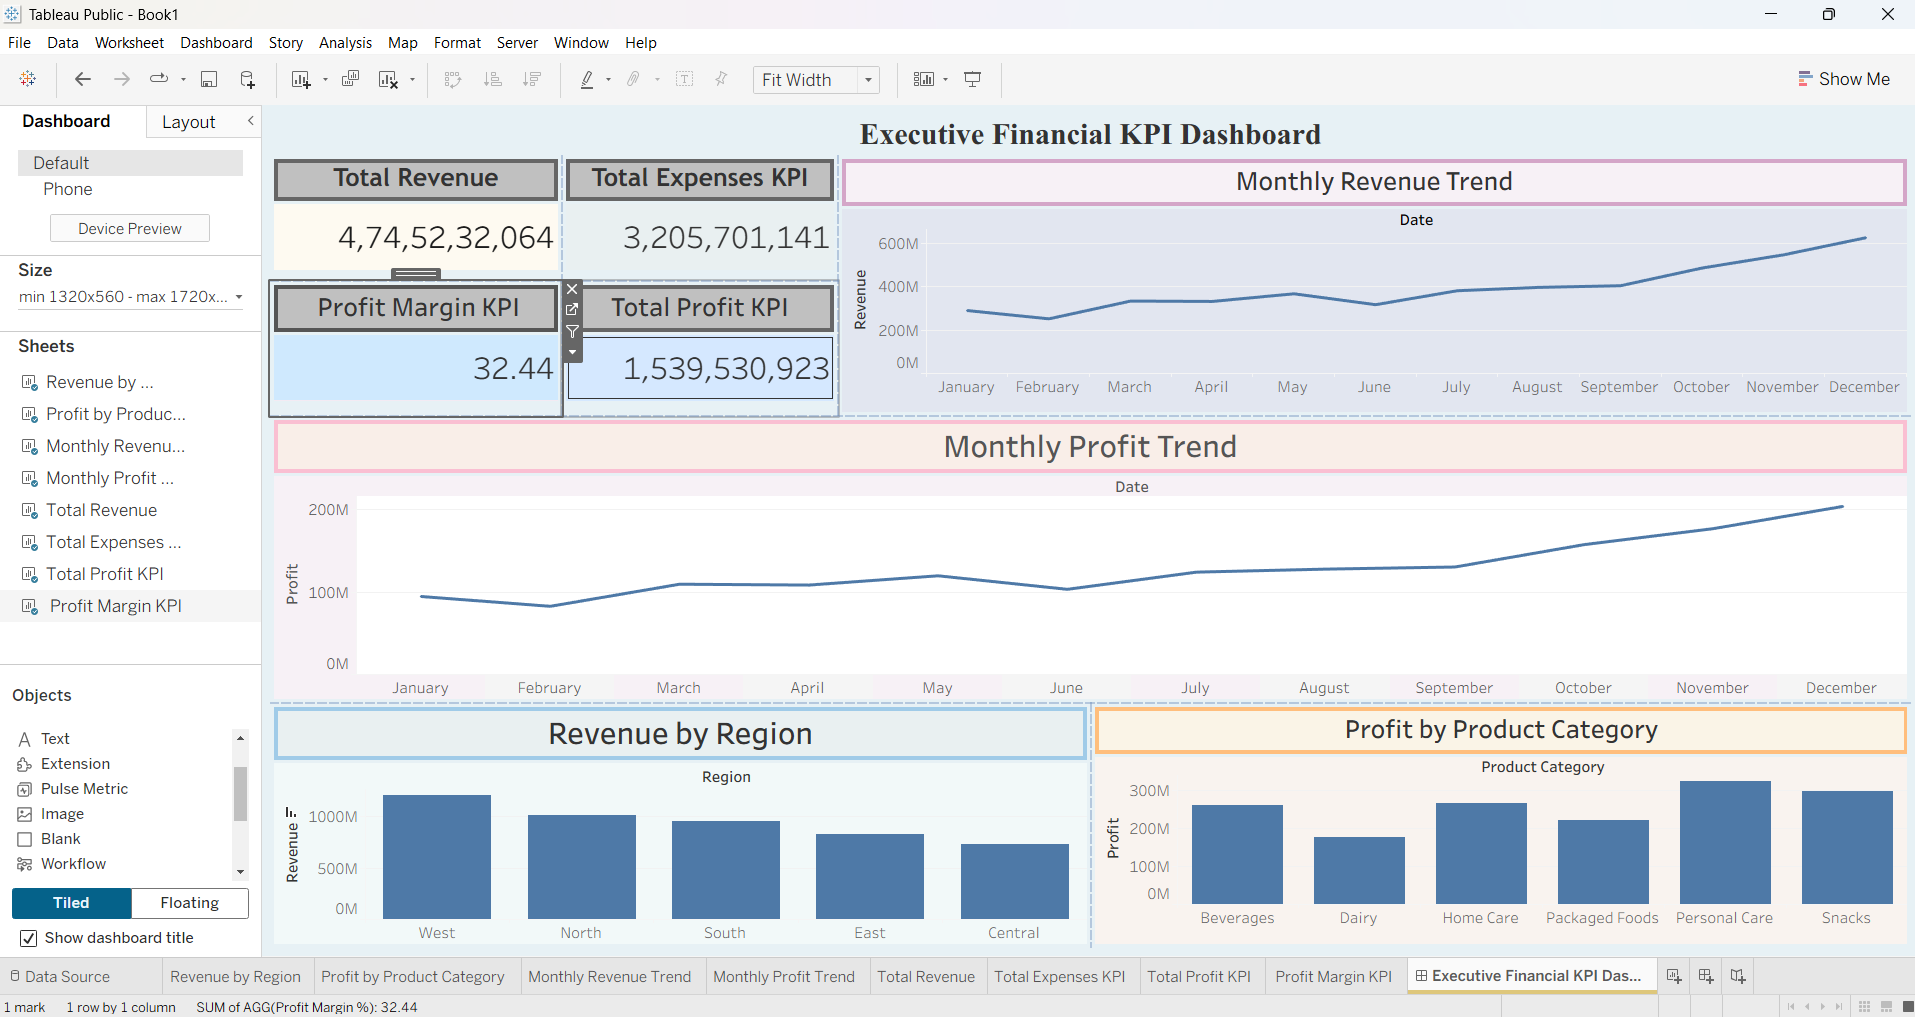

The dashboard page shown, as its layout file describes it:
{"tool":"tableau","page":{"name":"Executive Financial KPI Dashboard","canvas":[1000,1000],"units":"permille","ordinal":0},"visuals":[{"type":"title","box":[4.8,9.4,990.3,49.4]},{"type":"worksheet","title":"Total Revenue","mark":"Automatic","box":[4.8,58.8,176.2,148.4]},{"type":"worksheet","title":"Total Expenses KPI","mark":"Automatic","box":[181.1,58.8,166.6,148.4]},{"type":"worksheet","title":"Monthly Revenue Trend","mark":"Automatic","rows":["Revenue"],"cols":["Date"],"box":[347.6,58.8,647.6,306.9]},{"type":"worksheet","title":" Profit Margin KPI","mark":"Automatic","box":[4.8,207.2,176.2,158.5]},{"type":"worksheet","title":"Total Profit KPI","mark":"Automatic","box":[181.1,207.2,166.6,158.5]},{"type":"worksheet","title":"Monthly Profit Trend","mark":"Automatic","rows":["Profit"],"cols":["Date"],"box":[4.8,365.6,990.3,337.4]},{"type":"worksheet","title":"Revenue by Region","mark":"Automatic","rows":["Revenue"],"cols":["Region"],"box":[4.8,703,495.2,287.6]},{"type":"worksheet","title":"Profit by Product Category","mark":"Automatic","rows":["Profit"],"cols":["Product_Category"],"box":[500,703,495.2,287.6]}]}

Visuals, with their boxes on the dashboard's canvas, which has no fixed pixel size, in thousandths of its width and height (x1, y1, x2, y2). These are canvas units, not pixel positions in the 1915x1017 screenshot, which may show the page scaled, cropped or inside an application window:
title: Rect(5, 9, 995, 59)
"Total Revenue" worksheet: Rect(5, 59, 181, 207)
"Total Expenses KPI" worksheet: Rect(181, 59, 348, 207)
"Monthly Revenue Trend" worksheet: Rect(348, 59, 995, 366)
" Profit Margin KPI" worksheet: Rect(5, 207, 181, 366)
"Total Profit KPI" worksheet: Rect(181, 207, 348, 366)
"Monthly Profit Trend" worksheet: Rect(5, 366, 995, 703)
"Revenue by Region" worksheet: Rect(5, 703, 500, 991)
"Profit by Product Category" worksheet: Rect(500, 703, 995, 991)
